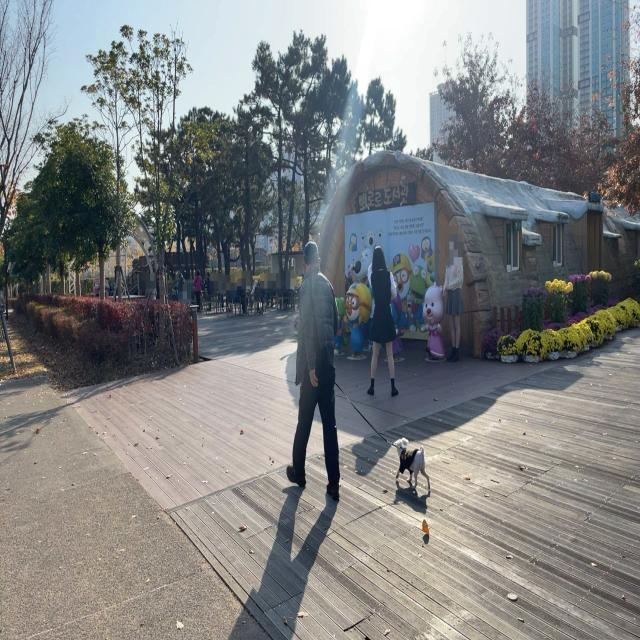Leashed_Dog: (323, 370, 431, 496)
